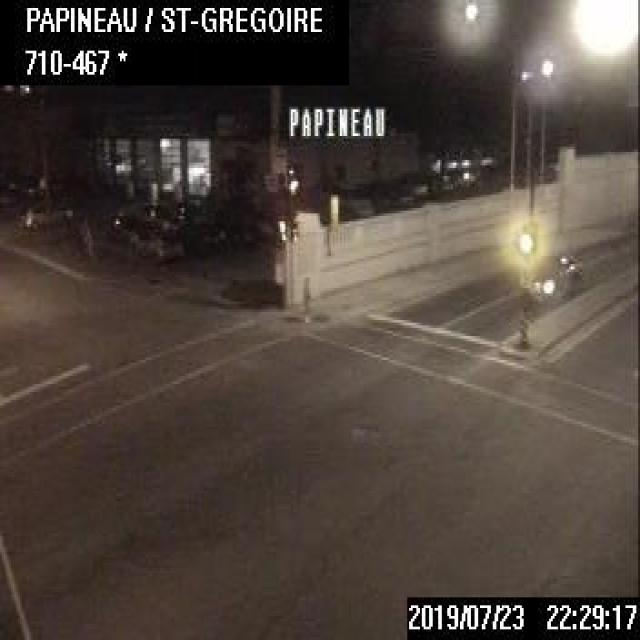vehicle: (127, 214, 185, 260), (527, 250, 580, 298), (19, 195, 71, 232)
